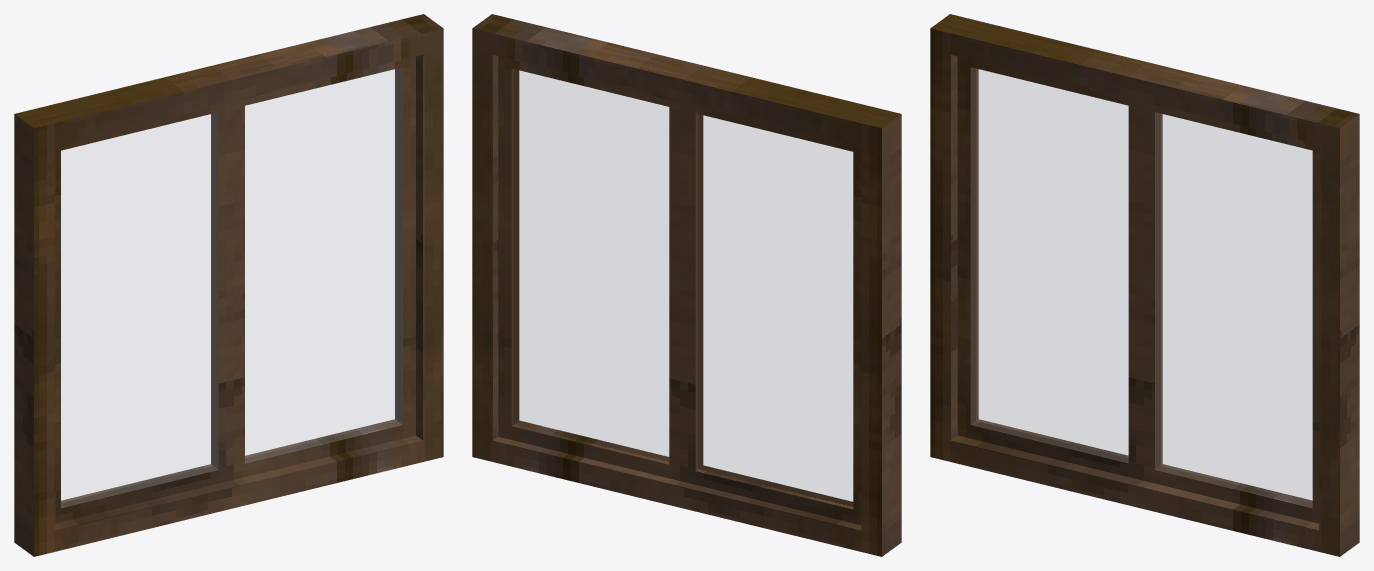
File: window.glb
The picture shows the model from 3 angles, left to right: view 1: azimuth 30°, elevation 25°; view 2: azimuth 150°, elevation 25°; view 3: azimuth 330°, elevation 25°; orthographic projection.
Parts seen in each view (by area): view 1: Cube.002; view 2: Cube.002; view 3: Cube.002.
Boxes of the visible parts, box(x1,y1,x2,y2) form: Cube.002: box(14, 14, 443, 556); Cube.002: box(472, 14, 901, 556); Cube.002: box(930, 14, 1359, 556).
Size of the model in its own units: 1.2 by 1.2 by 0.1.
Materials: 3 (1 with a texture image).
